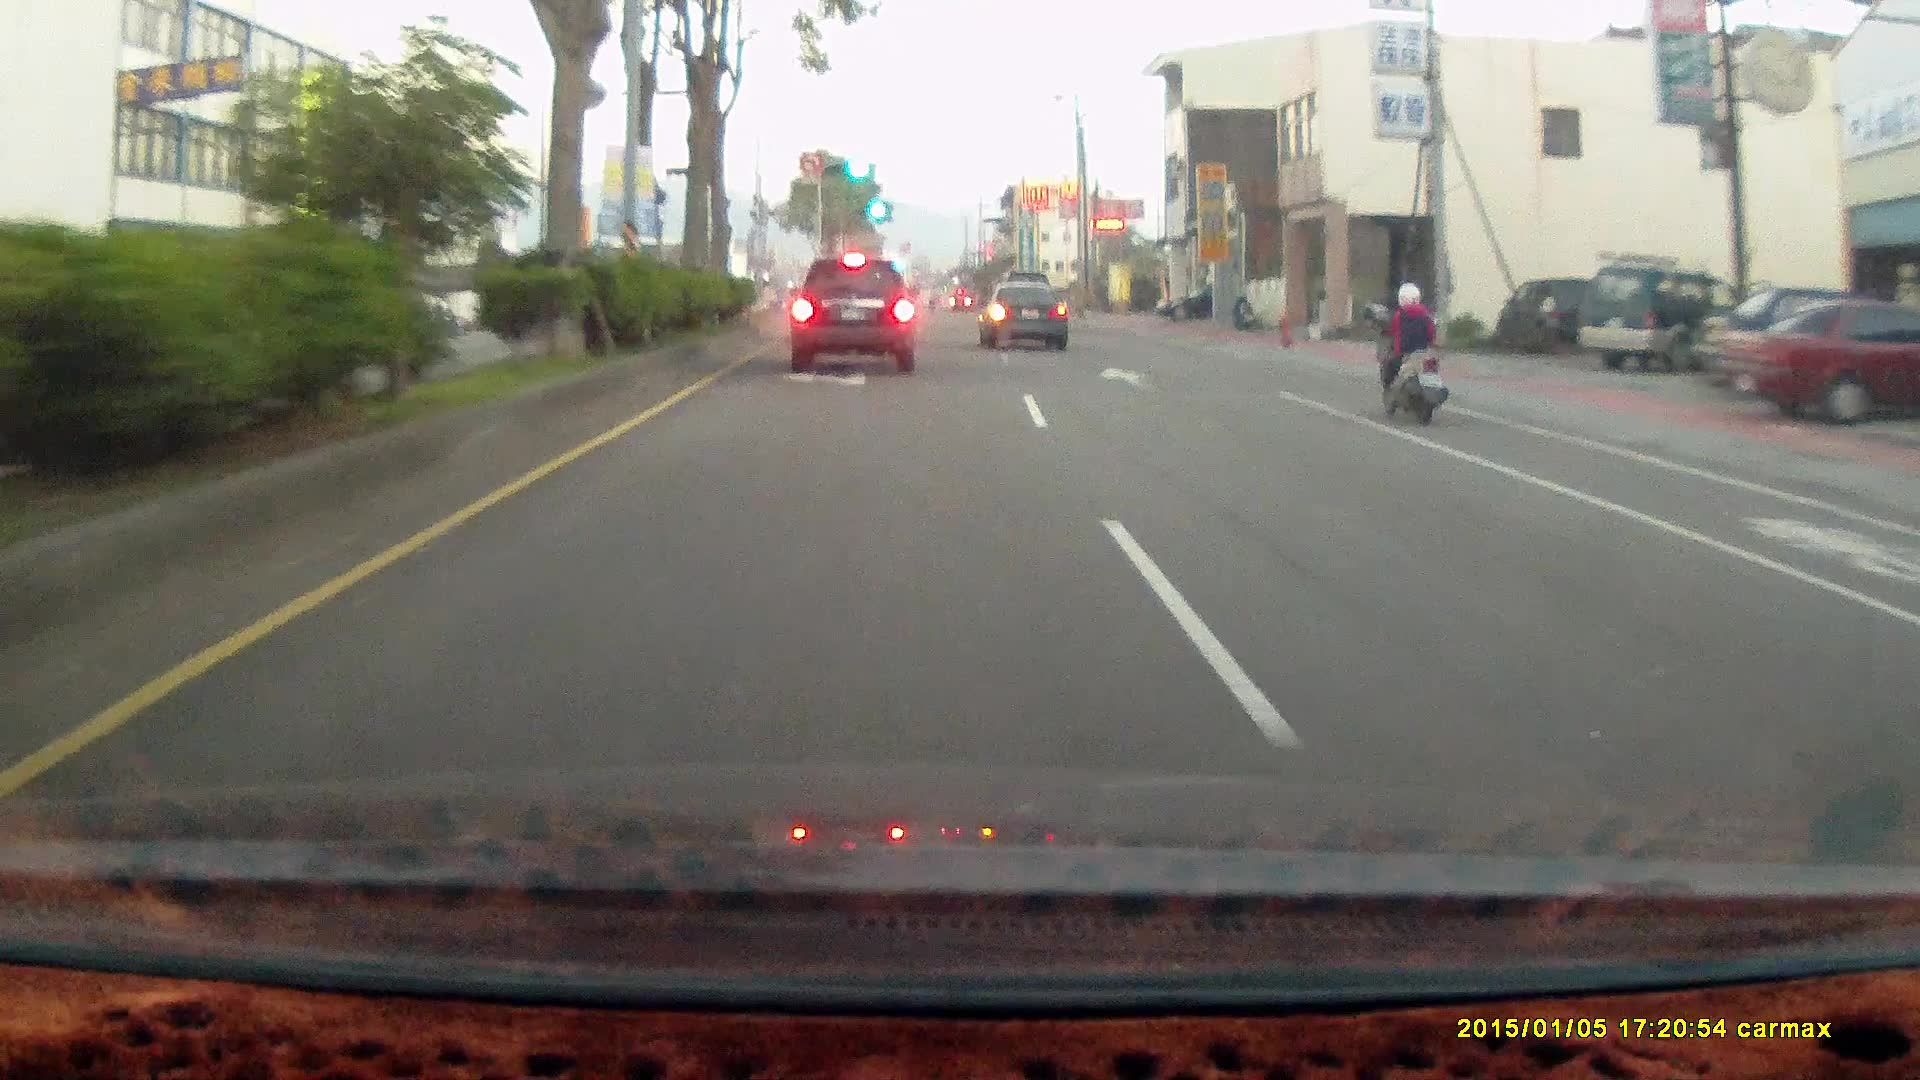rider: (1359, 267, 1462, 440), (1371, 282, 1448, 425)
vehicle: (1710, 297, 1920, 427), (1575, 266, 1746, 380), (1574, 266, 1750, 376), (789, 255, 916, 374), (795, 253, 920, 373), (1497, 278, 1605, 353), (980, 284, 1073, 351), (980, 281, 1068, 348), (1153, 286, 1248, 322), (1154, 287, 1215, 324)
